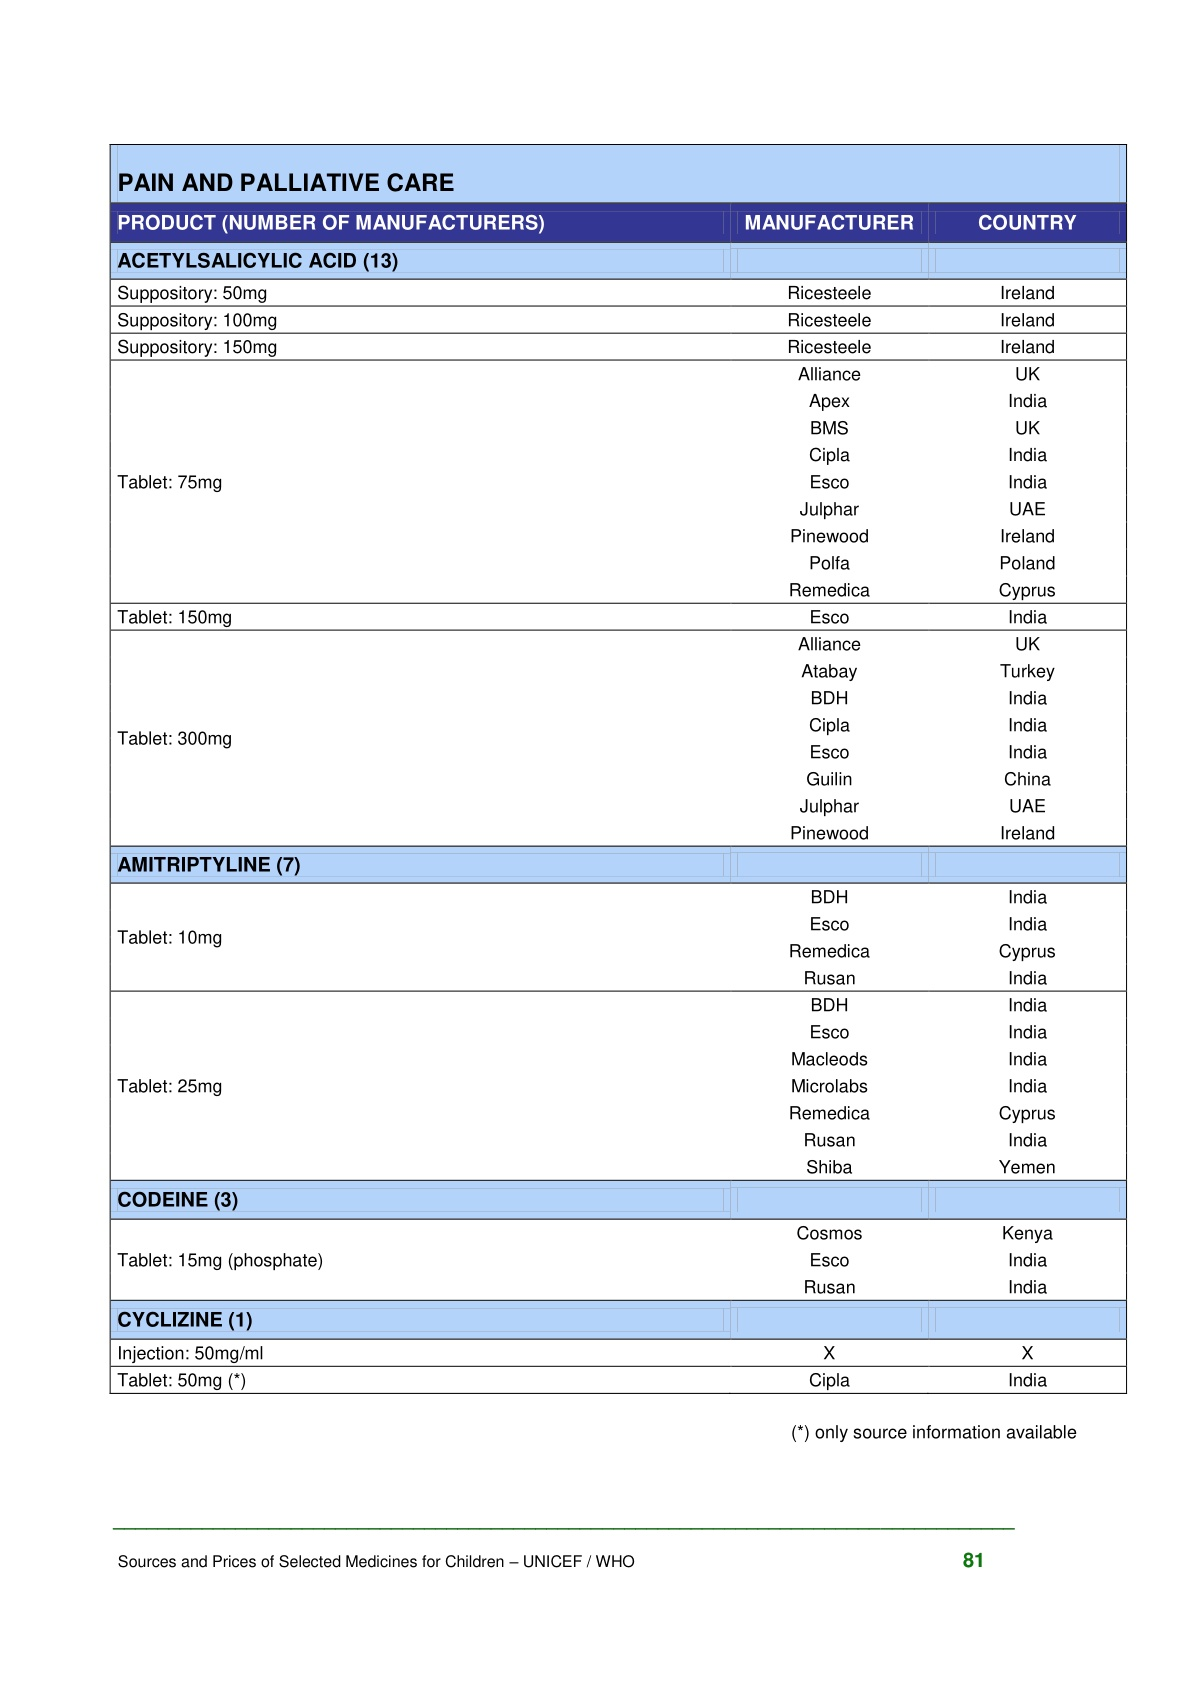partial_lined_merged_cells: (108, 143, 1128, 1395)
